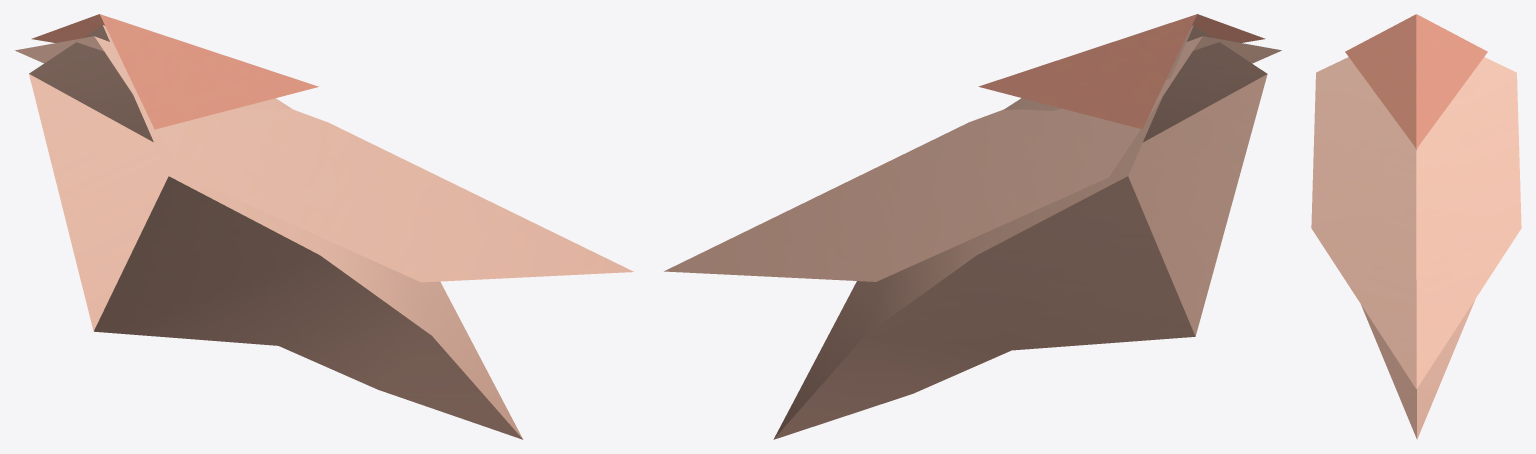
File: Flamand_tail.fbx
The picture shows the model from 3 angles, left to right: view 1: azimuth 30°, elevation 25°; view 2: azimuth 150°, elevation 25°; view 3: azimuth 270°, elevation 25°; orthographic projection. The views are drawn at different scales.
Parts seen in each view (by area): view 1: Flamand_tail; view 2: Flamand_tail; view 3: Flamand_tail.
Part boxes in pixels (bbox=[...]): Flamand_tail: bbox=[15, 14, 633, 439]; Flamand_tail: bbox=[664, 14, 1281, 439]; Flamand_tail: bbox=[1311, 14, 1521, 439].
Size of the model in its own units: 18.07 by 16.89 by 10.51.
